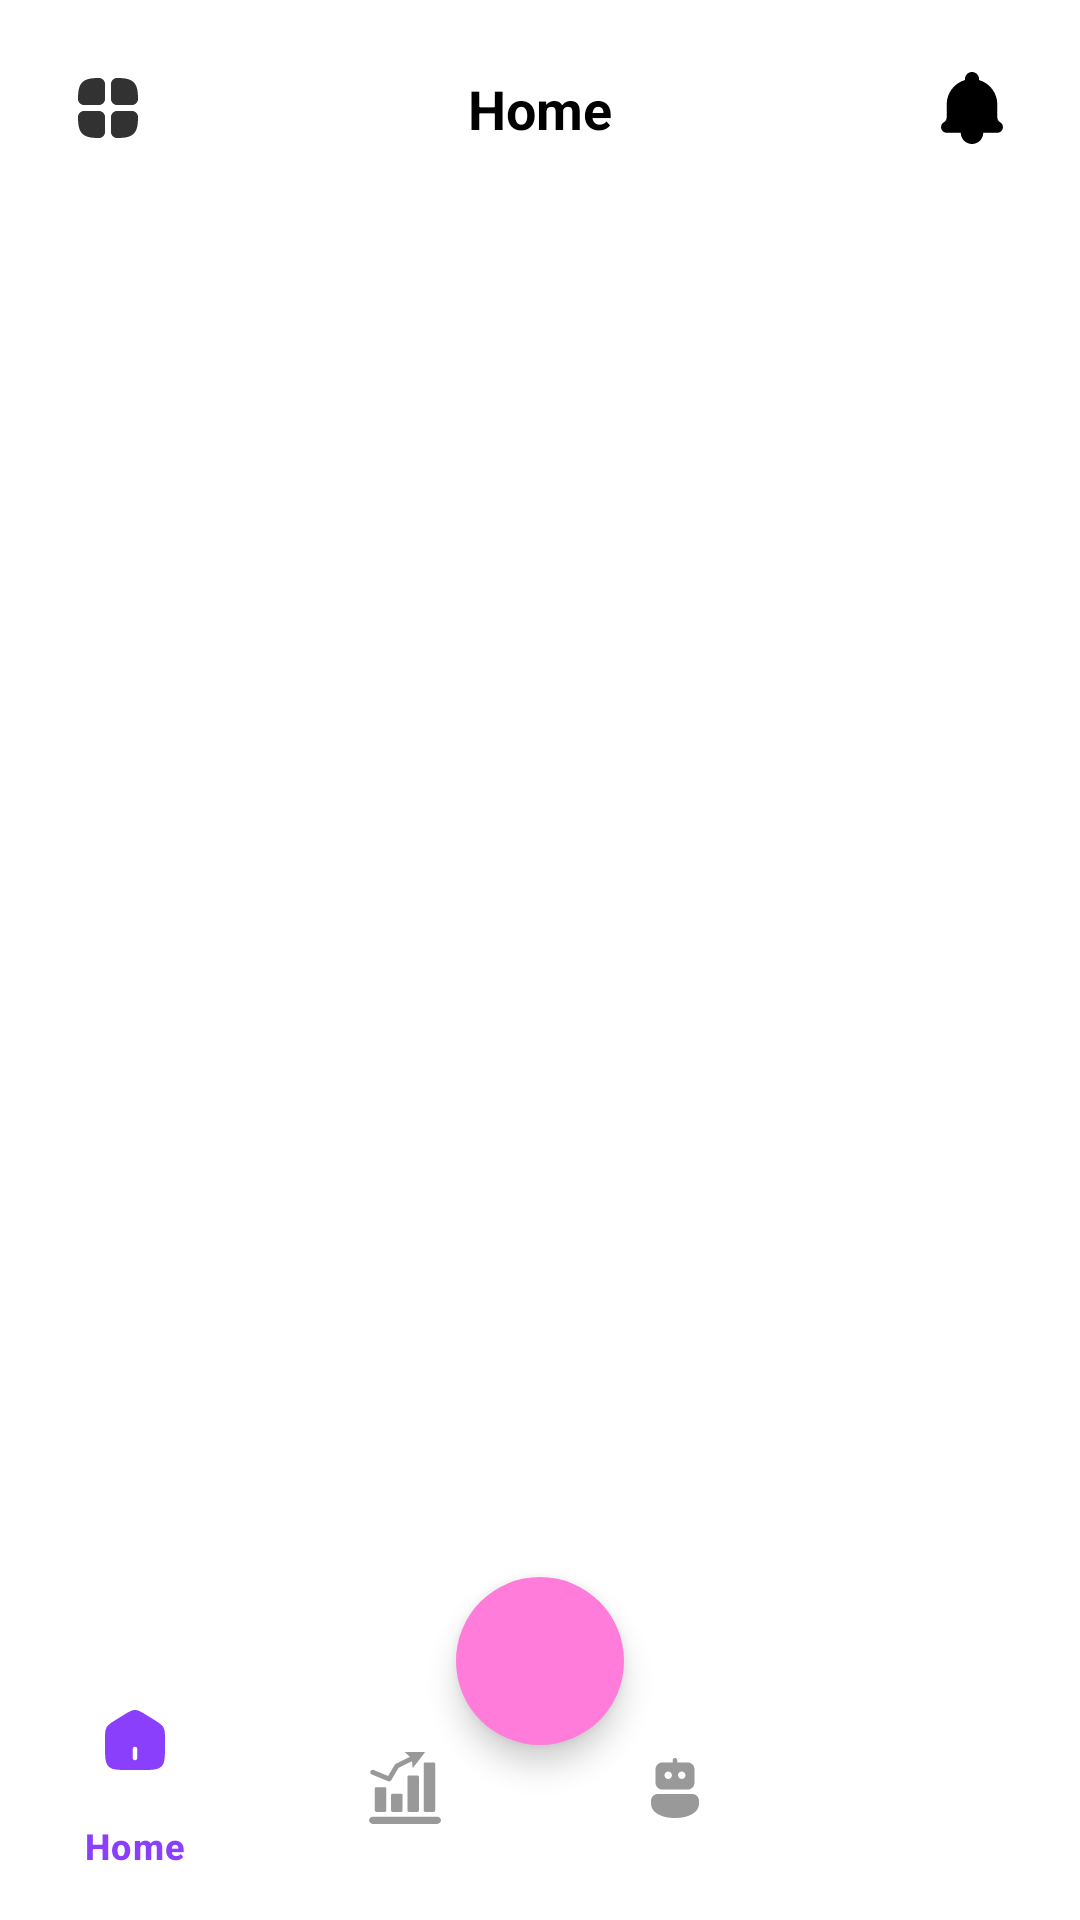

Where to tap for icons on this 1080px x 1920px app screen, as (x,y):
grid: (108,108)
notifications: (972,108)
